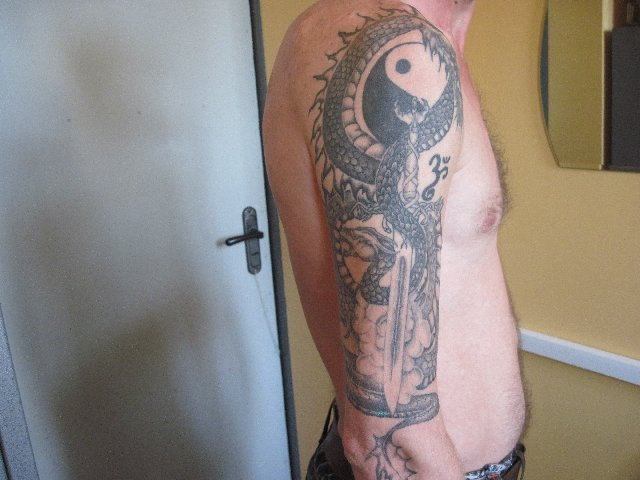tatu7_zmeya: (328, 5, 466, 447)
